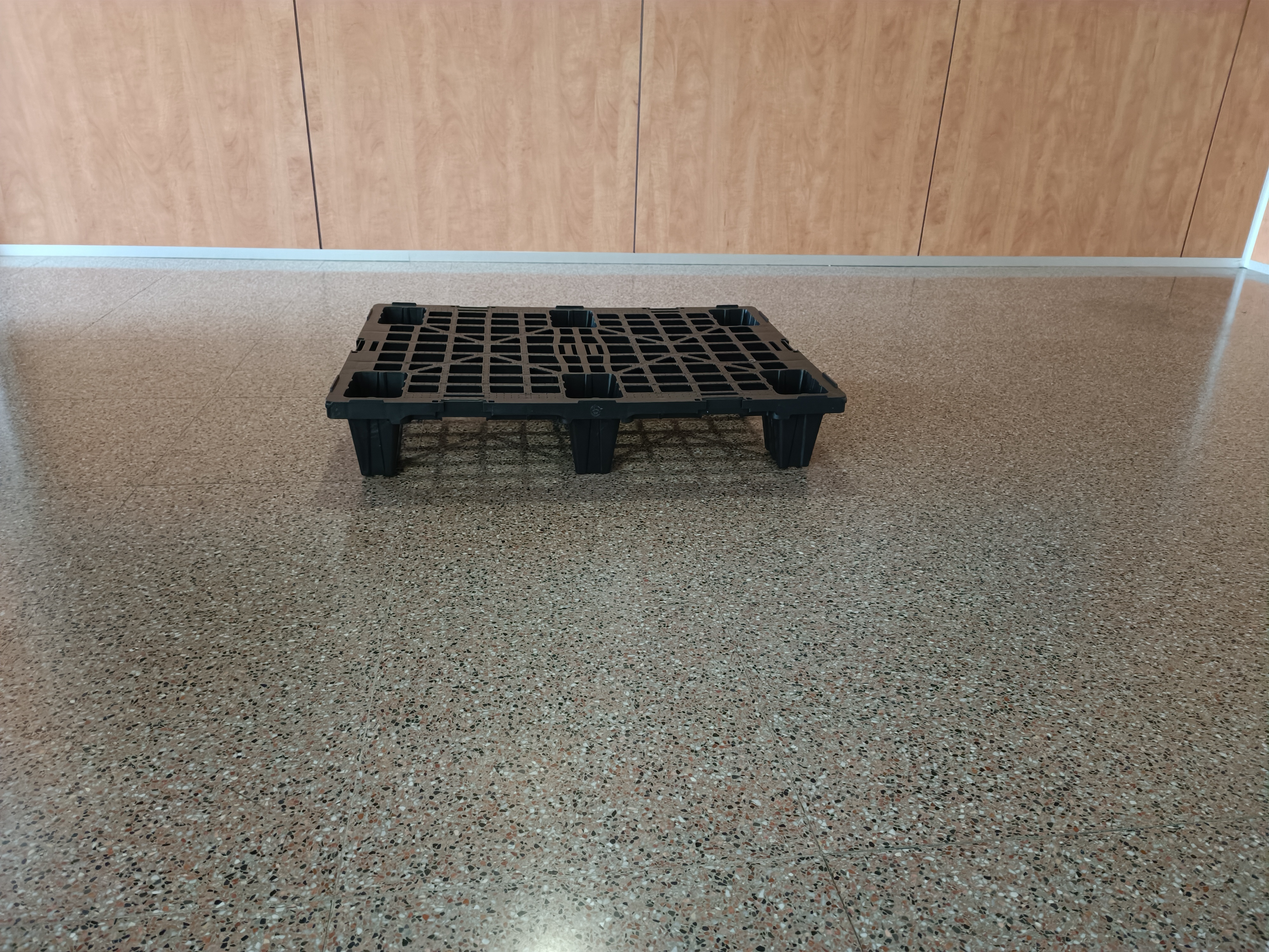block: (343, 407, 406, 483), (569, 401, 623, 485), (764, 405, 826, 473)
front: (324, 393, 848, 486)
hole pallet: (397, 421, 575, 471), (617, 419, 780, 472)
